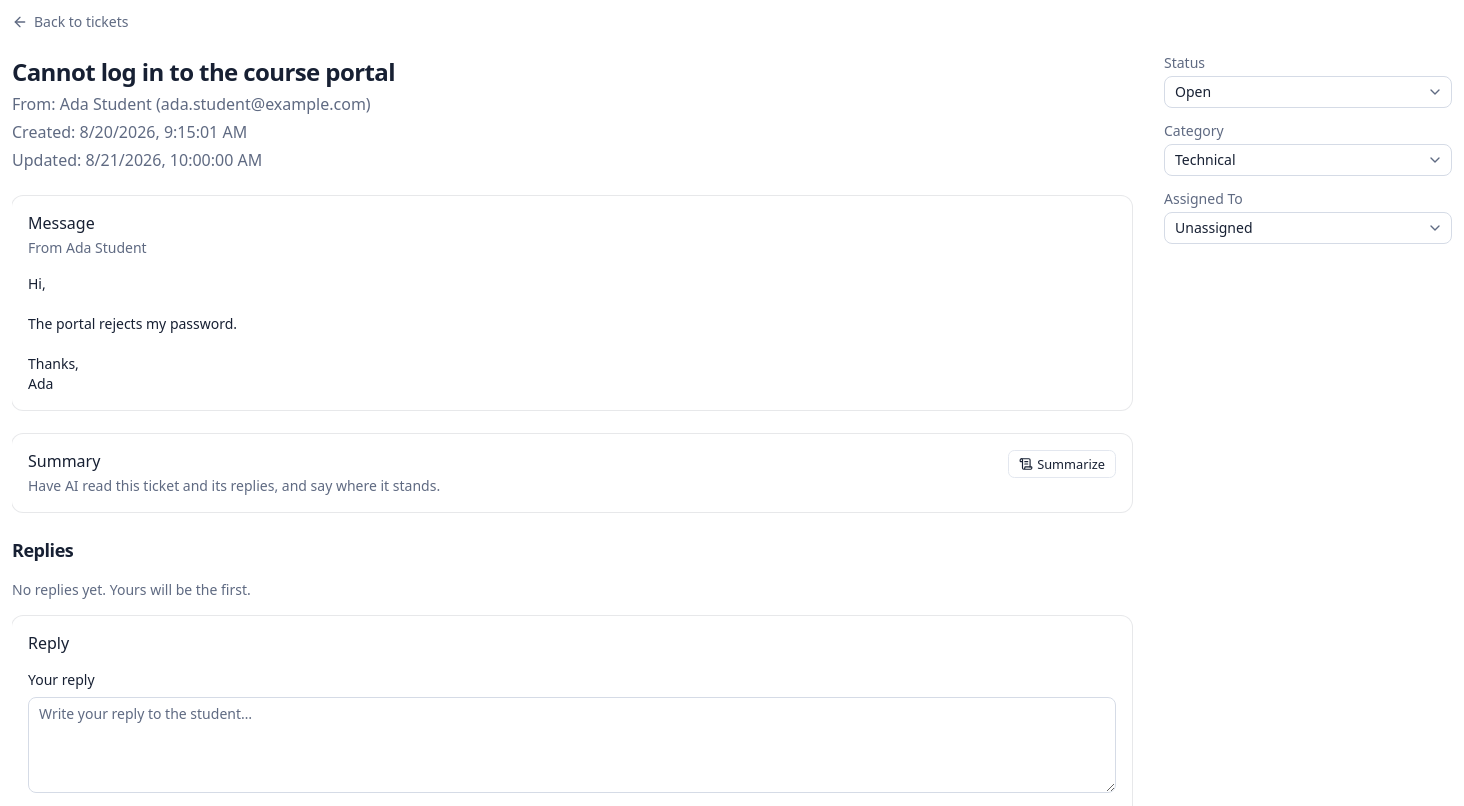
Test: TicketDetailPage › status › offers every status, written as a choice
The image size is (1464, 806).
Check: the heading "Cannot log in to the course portal" is shown, box 12,55 -> 395,88
Click the dropdown named "status" at [1193, 92], box 1164,76 -> 1452,108
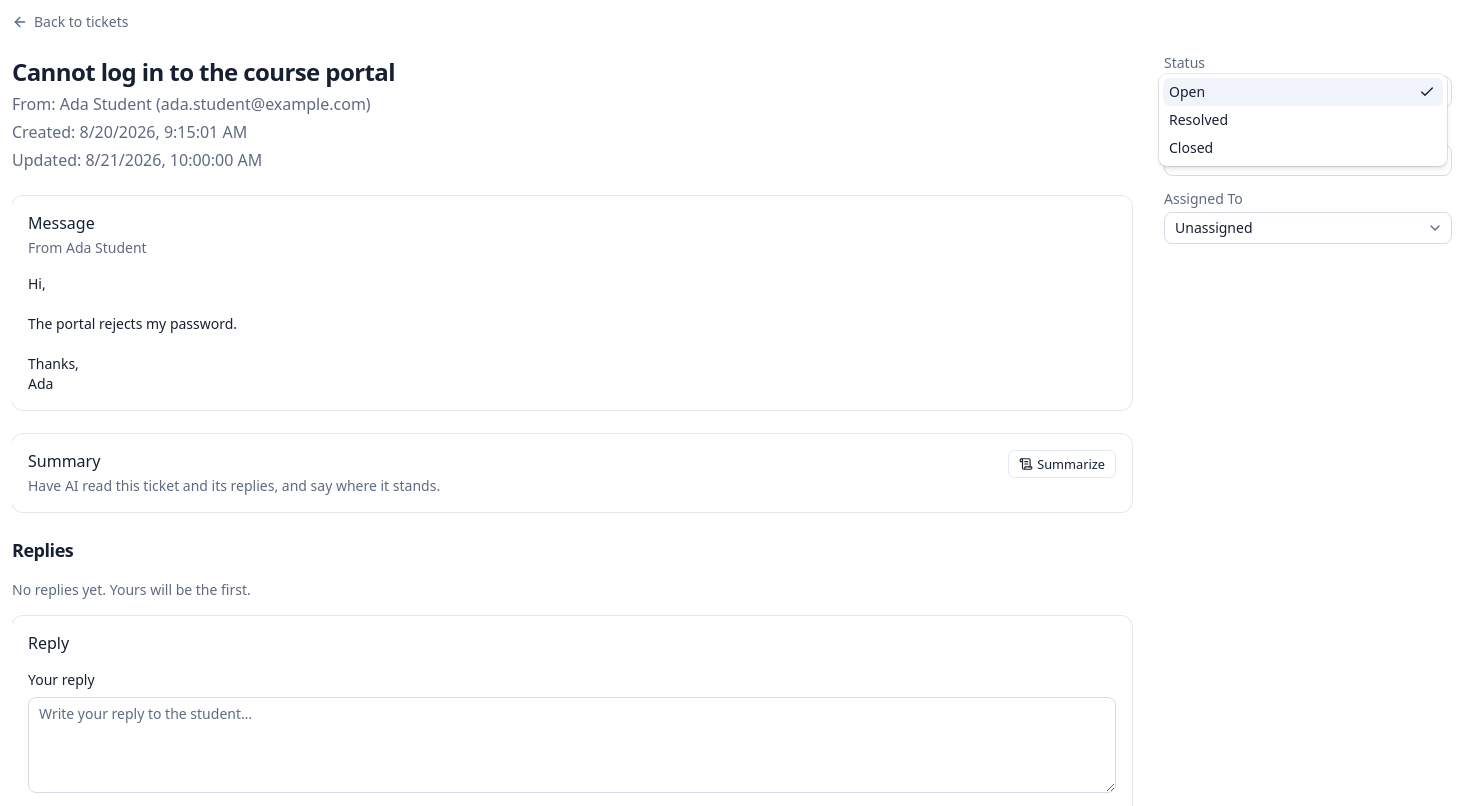
Check: the options read "Open", "Resolved", "Closed", in this order, box 1163,78 -> 1443,106; 1169,110 -> 1228,129; 1169,138 -> 1213,157
